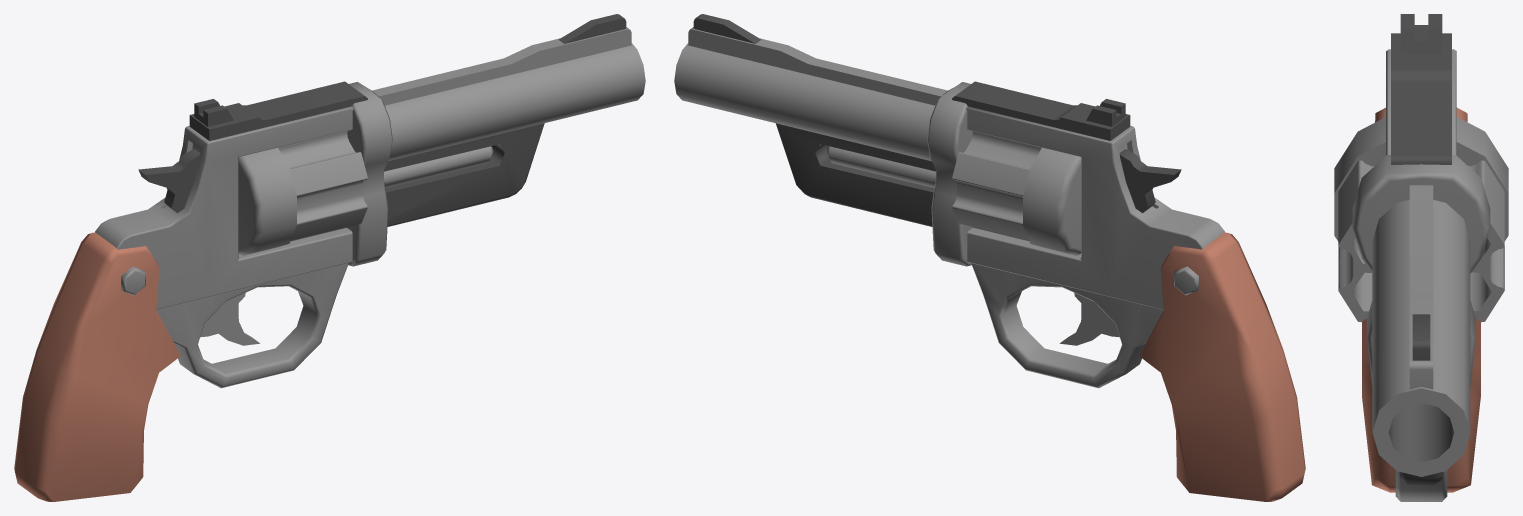
File: basic_gun_model.glb
3 views of the same model, side by side, from view 1: azimuth 30°, elevation 25°; view 2: azimuth 150°, elevation 25°; view 3: azimuth 270°, elevation 25° (orthographic). The views are drawn at different scales.
Visible parts, largest first — view 1: pistol_001, pistol_drum_001; view 2: pistol_001, pistol_drum_001; view 3: pistol_001, pistol_drum_001.
Boxes of the visible parts, x1,y1,x2,y2 form: pistol_001: [14, 14, 645, 501]; pistol_drum_001: [278, 131, 367, 241]; pistol_001: [674, 14, 1305, 501]; pistol_drum_001: [952, 131, 1041, 241]; pistol_001: [1334, 14, 1508, 501]; pistol_drum_001: [1338, 160, 1504, 322].
Size of the model in its own units: 0.5751 by 0.3235 by 0.0942.
Materials: 1 (1 with a texture image).
